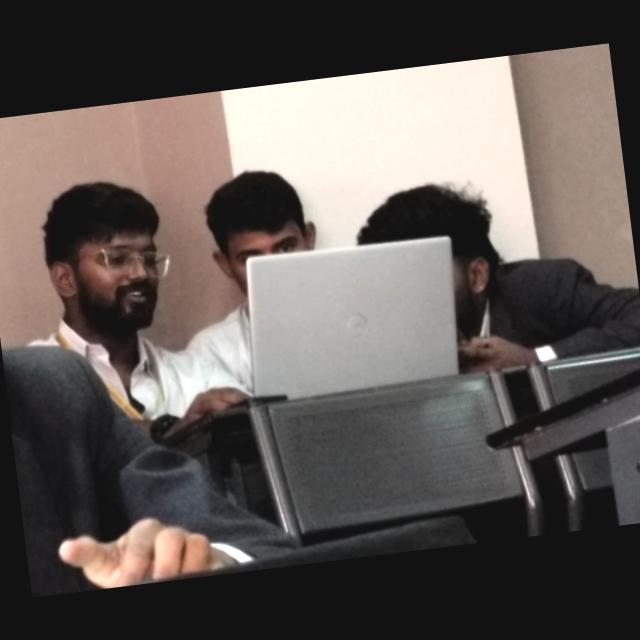laptop: (228, 226, 487, 406)
